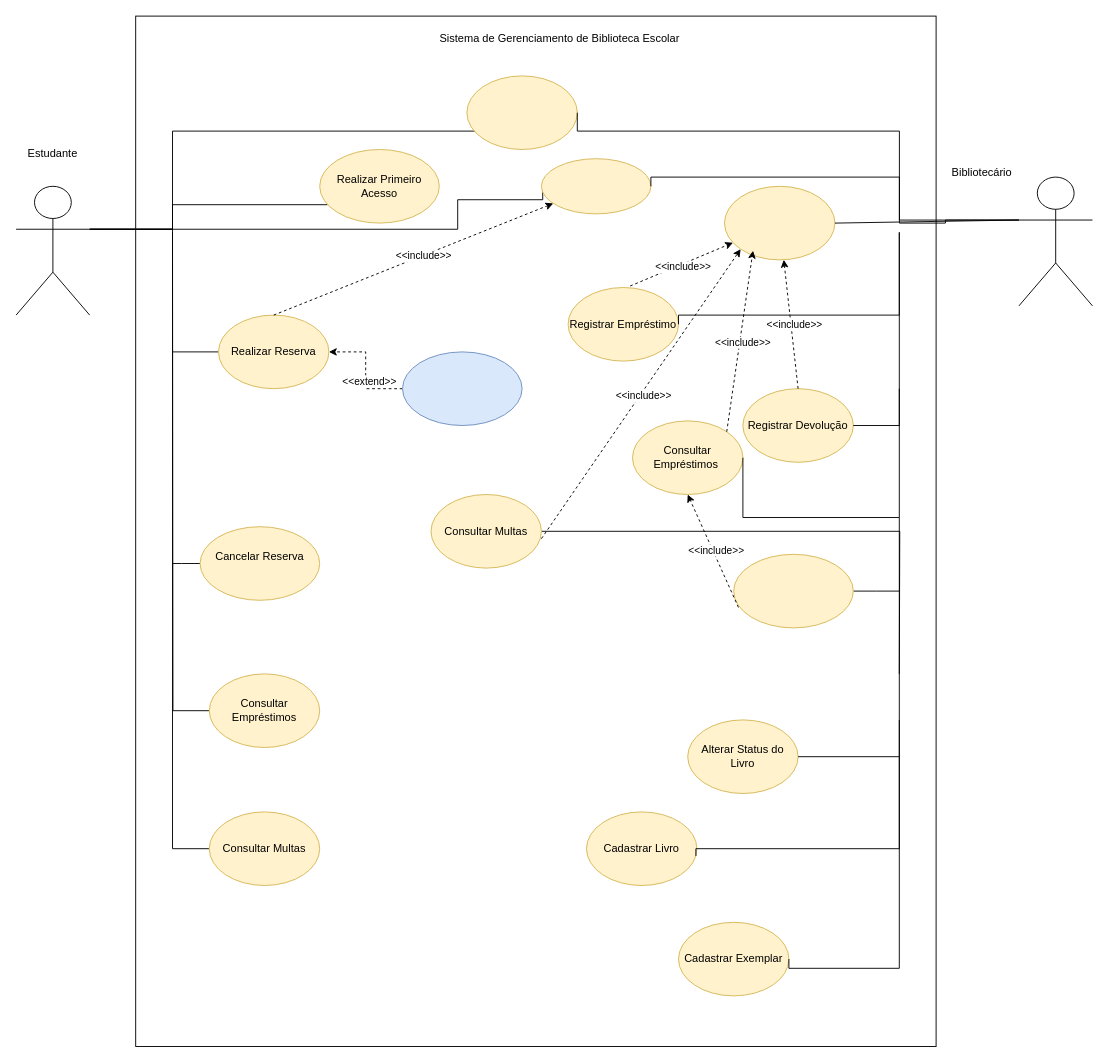
Image size: 1109x1063. Some labels were removed from this diagram. Each missing label, with the centre of its shape:
Consultar Acervo: [595,186]
Entrar na fila de espera: [462,388]
Fazer Login: [521,112]
Localizar Estudante: [779,222]
Renovar empréstimo: [793,590]
